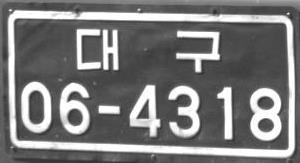0: (20, 81, 51, 133)
1: (212, 86, 244, 141)
3: (167, 84, 201, 138)
4: (129, 83, 161, 137)
6: (58, 81, 90, 134)
8: (249, 86, 282, 141)
대구_D: (76, 28, 220, 74)
